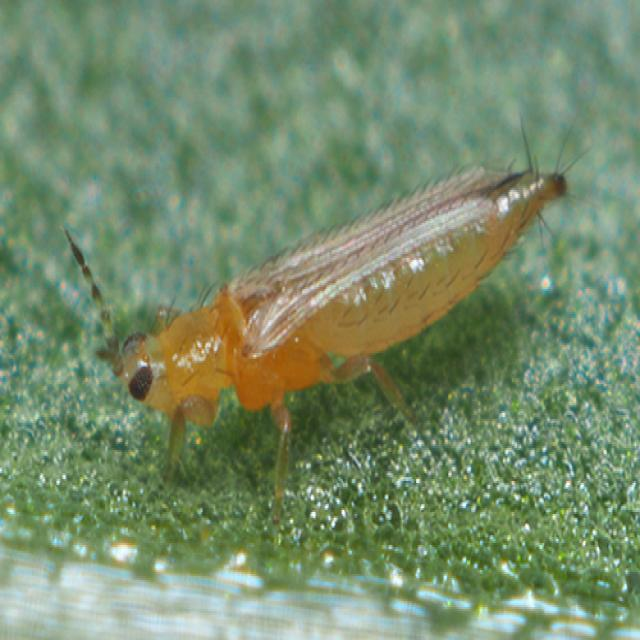Thrip-Adult-: (70, 107, 587, 454)
